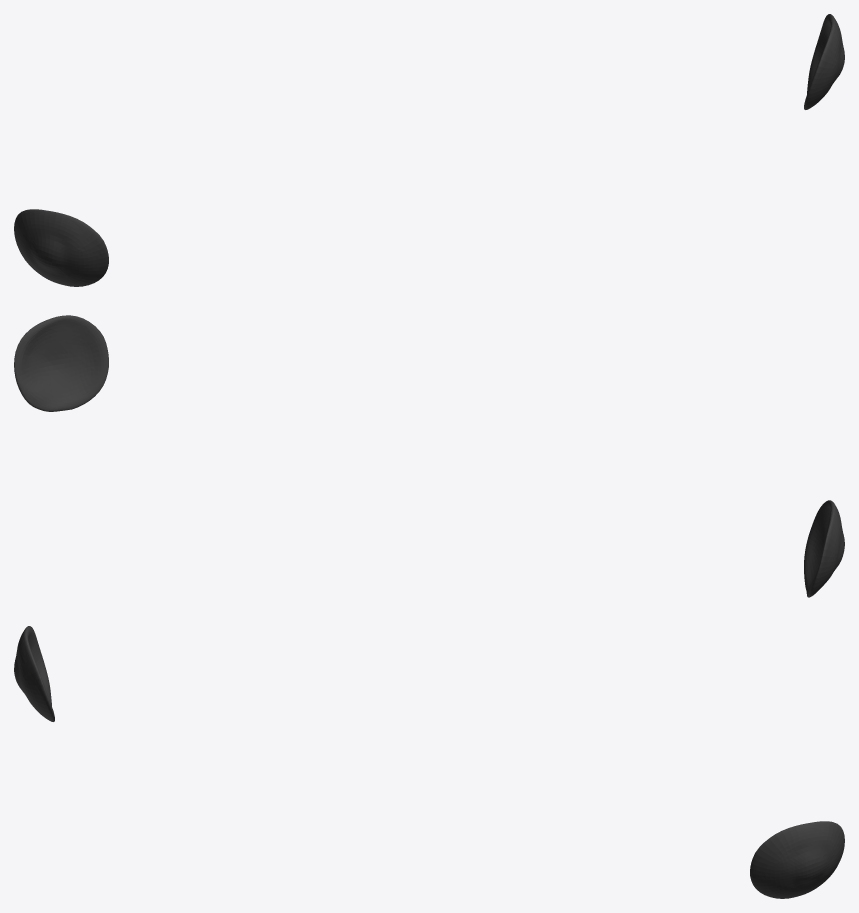
The model's file is details_eye2.glb.
3 views of the same model, one above another, from view 1: azimuth 30°, elevation 25°; view 2: azimuth 150°, elevation 25°; view 3: azimuth 330°, elevation 25° (orthographic).
Visible parts, largest first — view 1: details_eye2; view 2: details_eye2; view 3: details_eye2.
Boxes of the visible parts, x1,y1,x2,y2 form: details_eye2: [14, 14, 844, 286]; details_eye2: [14, 315, 844, 597]; details_eye2: [14, 626, 844, 898].
Size of the model in its own units: 0.2488 by 0.0244 by 0.0237.
1 material, 1 textured.
